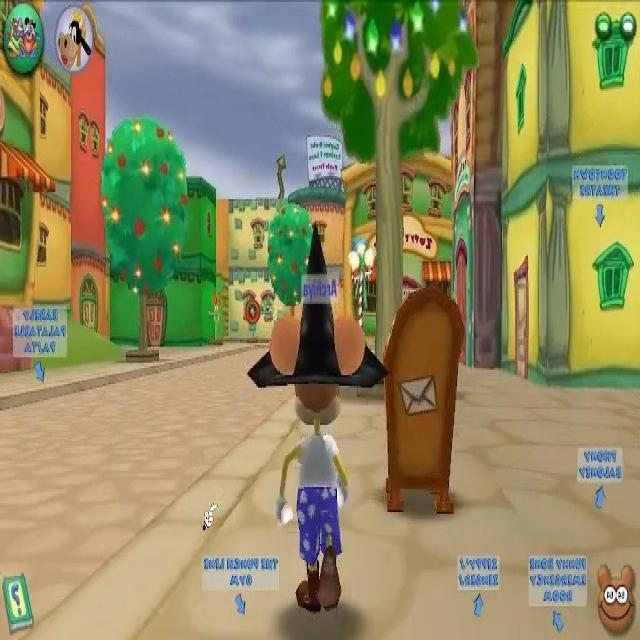telemarketer: (401, 289, 423, 337)
